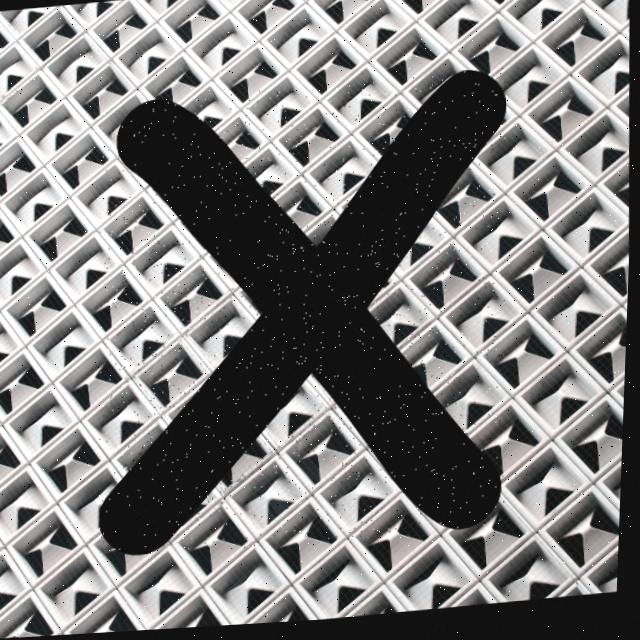X: (103, 76, 506, 556)
